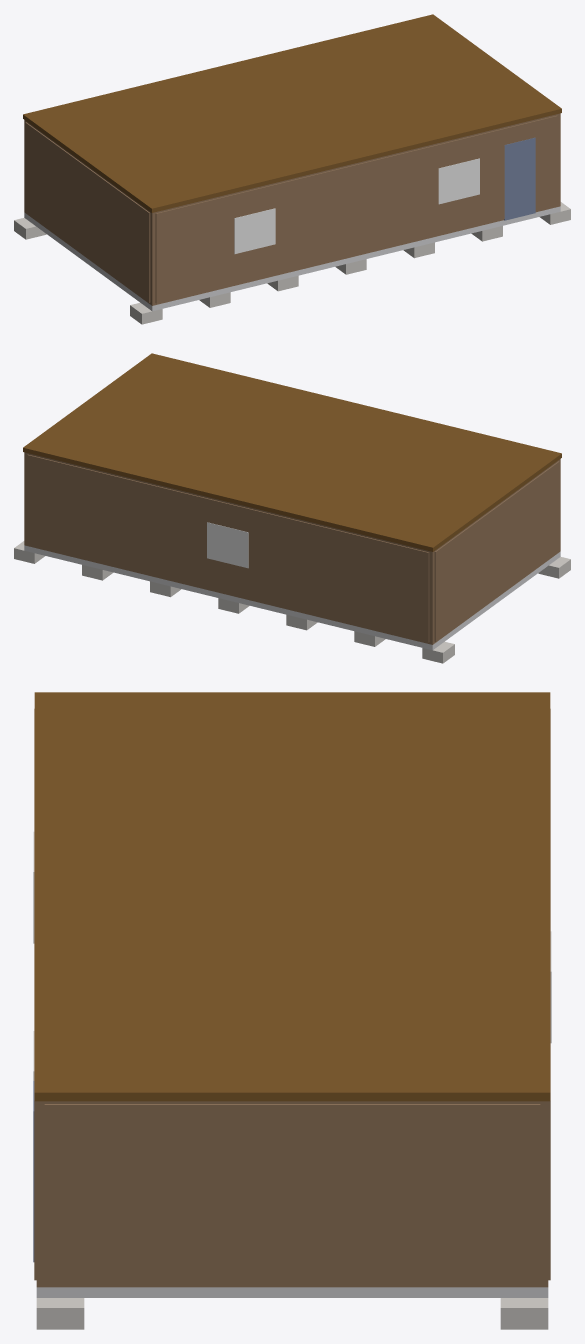
File: Studio-40-Base-DarkBrown-LOD0.glb
3 renders of one model, top to bottom at view 1: azimuth 30°, elevation 25°; view 2: azimuth 150°, elevation 25°; view 3: azimuth 270°, elevation 25°, orthographic. The views are drawn at different scales.
Visible parts, largest first — view 1: RoofMain, ExteriorPanelsStandard, BaseFrame, WindowsStandard, ExteriorShell, FoundationBlocks, EntryDoor; view 2: RoofMain, ExteriorPanelsStandard, BaseFrame, ExteriorShell, FoundationBlocks, WindowsStandard; view 3: RoofMain, ExteriorPanelsStandard, ExteriorShell, BaseFrame, FoundationBlocks.
Part boxes in pixels (left/top/right/bottom): RoofMain: left=23, top=14, right=561, bottom=212; ExteriorPanelsStandard: left=25, top=115, right=557, bottom=303; BaseFrame: left=24, top=206, right=560, bottom=311; WindowsStandard: left=234, top=158, right=479, bottom=254; ExteriorShell: left=24, top=113, right=560, bottom=305; FoundationBlocks: left=14, top=202, right=570, bottom=324; EntryDoor: left=504, top=137, right=535, bottom=220; RoofMain: left=23, top=353, right=561, bottom=551; ExteriorPanelsStandard: left=27, top=454, right=559, bottom=642; BaseFrame: left=24, top=545, right=560, bottom=650; ExteriorShell: left=24, top=452, right=560, bottom=644; FoundationBlocks: left=14, top=541, right=570, bottom=663; WindowsStandard: left=207, top=522, right=248, bottom=568; RoofMain: left=34, top=692, right=550, bottom=1101; ExteriorPanelsStandard: left=34, top=709, right=550, bottom=1284; ExteriorShell: left=36, top=1101, right=548, bottom=1287; BaseFrame: left=36, top=1287, right=548, bottom=1297; FoundationBlocks: left=36, top=1298, right=548, bottom=1329.
Size of the model in its own units: 12.49 by 3.17 by 6.53.
